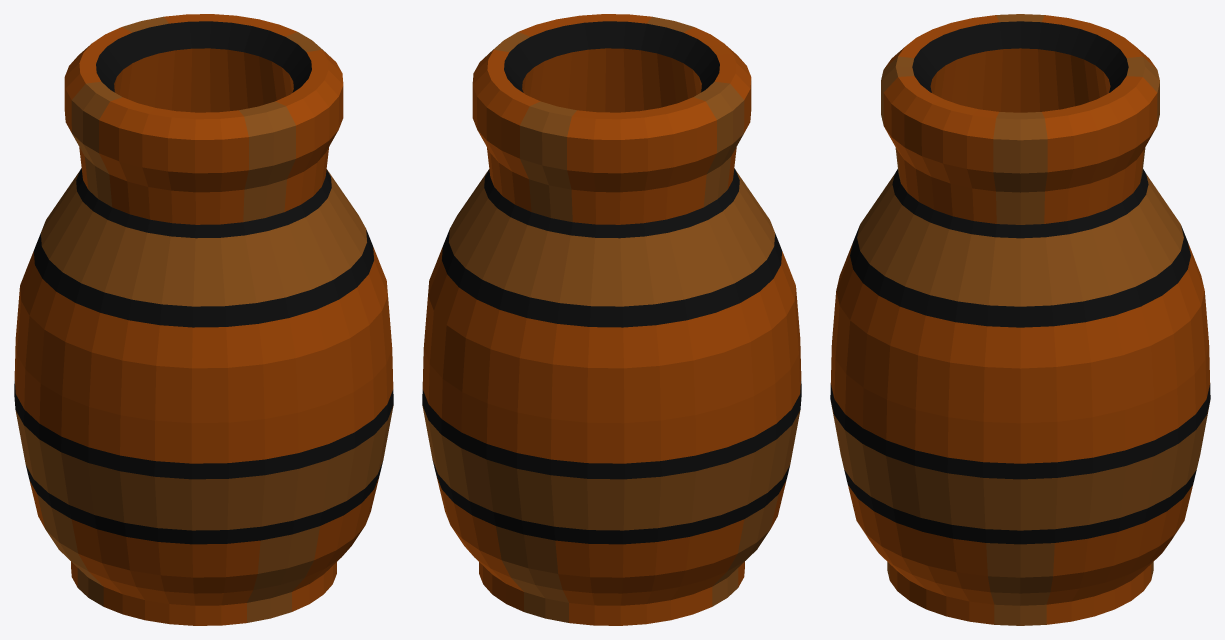
Rendered from pot1.fbx.
3 views of the same model, side by side, from view 1: azimuth 30°, elevation 25°; view 2: azimuth 150°, elevation 25°; view 3: azimuth 270°, elevation 25° (orthographic).
Parts seen in each view (by area): view 1: Pot1; view 2: Pot1; view 3: Pot1.
Boxes of the visible parts, x1,y1,x2,y2 form: Pot1: (14, 14, 393, 625); Pot1: (422, 14, 801, 625); Pot1: (830, 14, 1210, 625).
Size of the model in its own units: 285 by 416 by 285.
